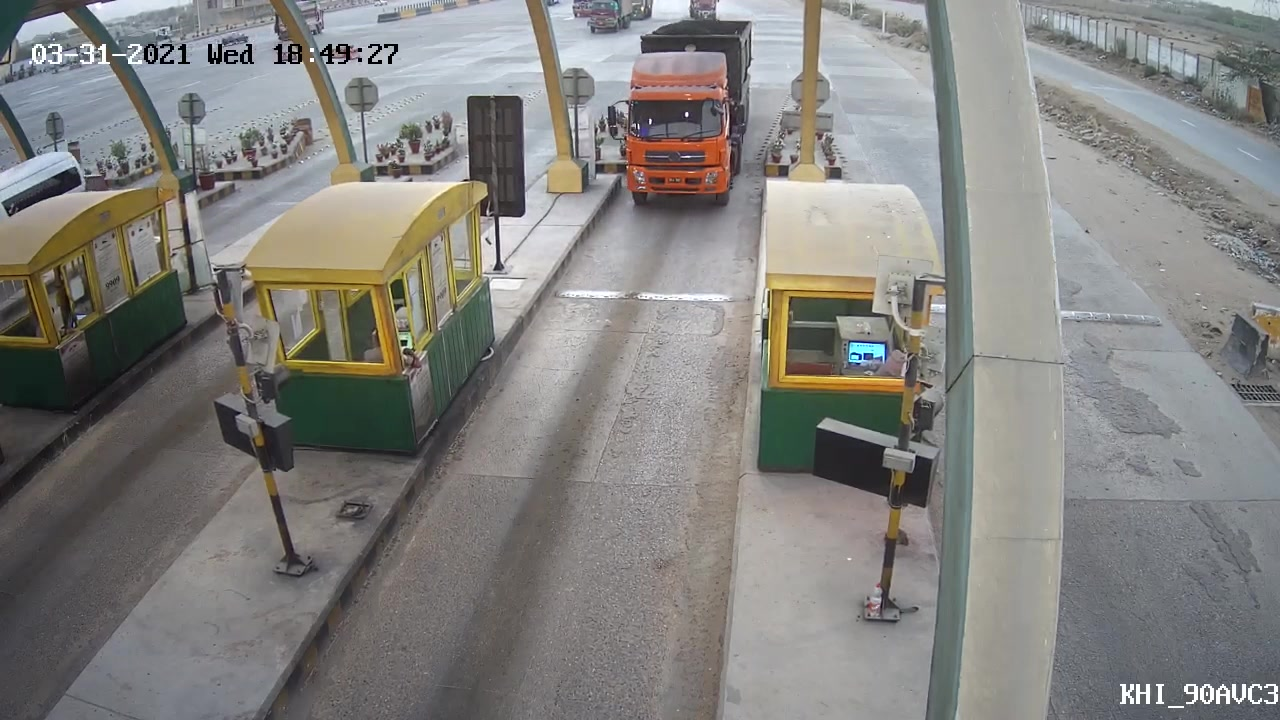F6: (601, 11, 760, 216)
